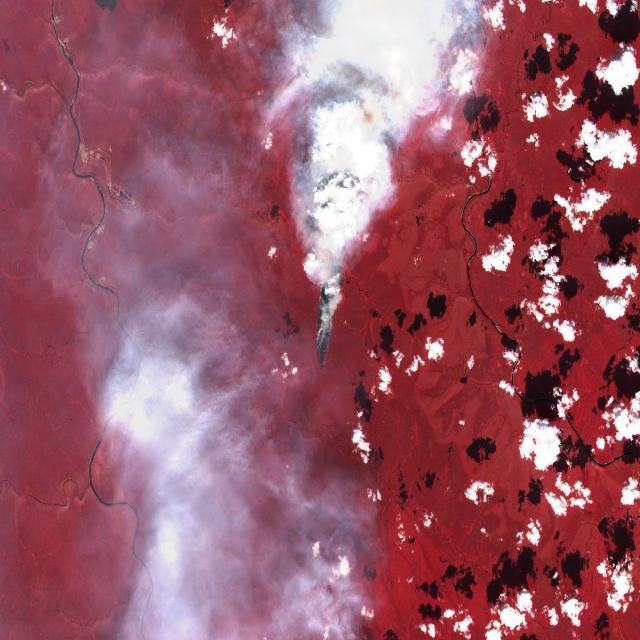fire: (309, 191, 351, 372)
